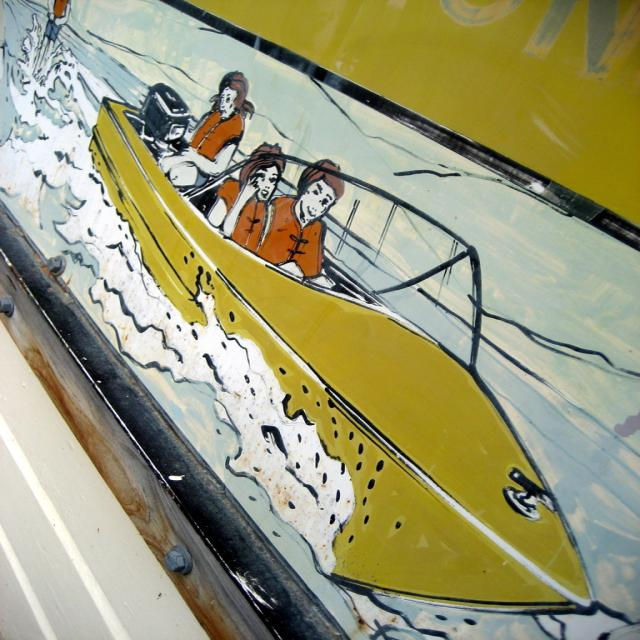Boat: (92, 73, 601, 640)
